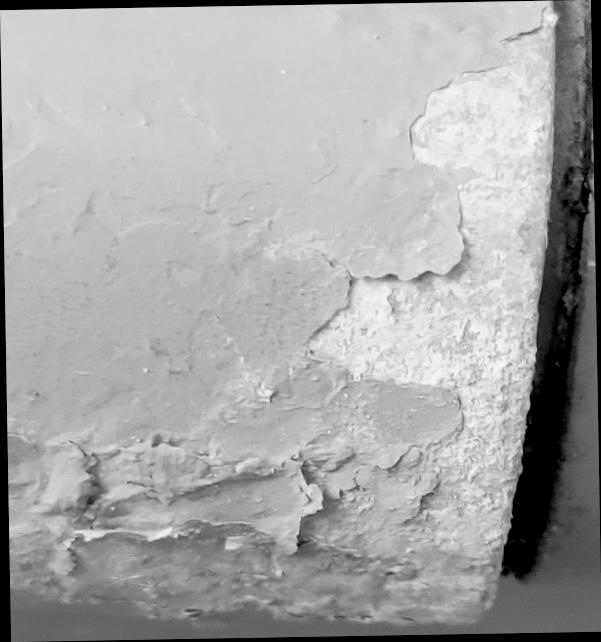paint-off: (0, 1, 601, 642)
